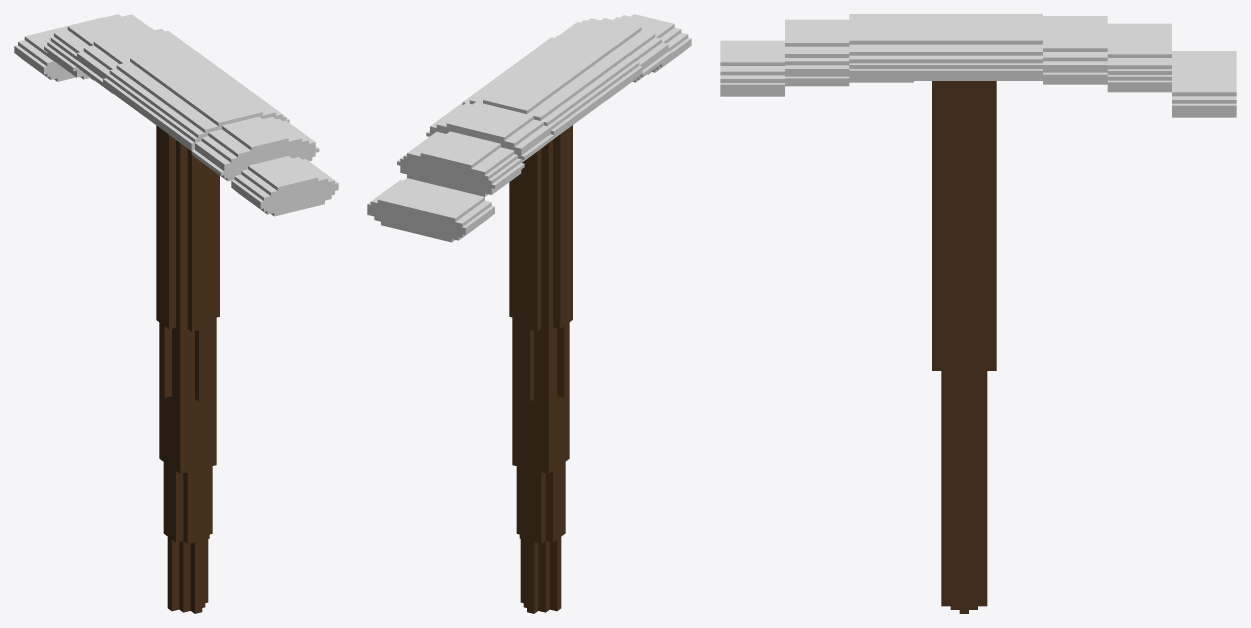
The model's file is Kilof.fbx.
3 views of the same model, side by side, from view 1: azimuth 30°, elevation 25°; view 2: azimuth 150°, elevation 25°; view 3: azimuth 270°, elevation 25° (orthographic). The views are drawn at different scales.
Parts seen in each view (by area): view 1: Cube.027; view 2: Cube.027; view 3: Cube.027.
Boxes of the visible parts, x1,y1,x2,y2 form: Cube.027: (14,14,338,613); Cube.027: (367,14,691,613); Cube.027: (720,14,1236,613).
Bounding box in the file's own units: 39.76 × 204 × 166.
